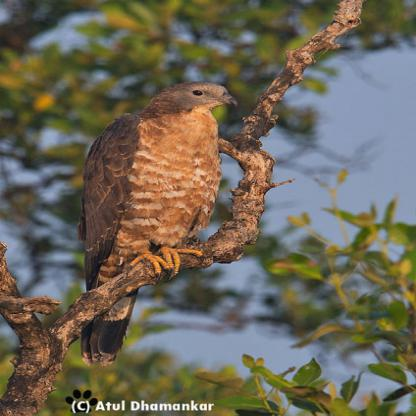Burung: (67, 78, 243, 370)
